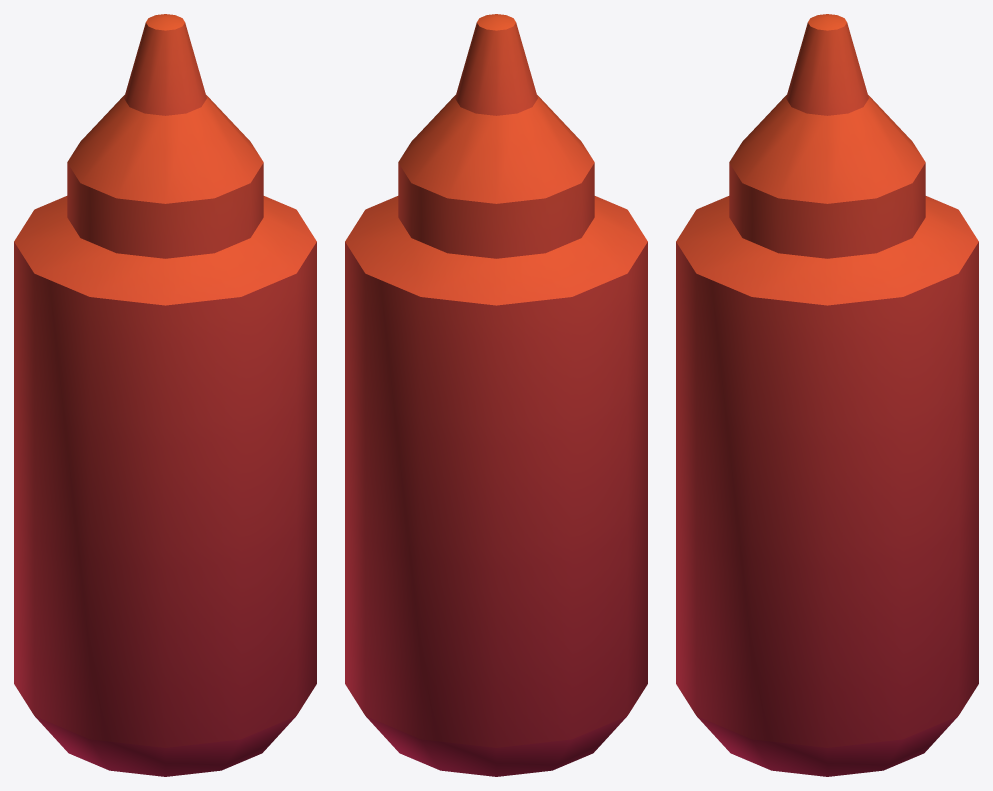
File: kay-ketchup.glb
3 renders of one model, left to right at view 1: azimuth 30°, elevation 25°; view 2: azimuth 150°, elevation 25°; view 3: azimuth 270°, elevation 25°, orthographic.
Visible parts, largest first — view 1: ketchup; view 2: ketchup; view 3: ketchup.
Boxes of the visible parts, left/top/right/bottom form: ketchup: left=14, top=14, right=316, bottom=776; ketchup: left=345, top=14, right=647, bottom=776; ketchup: left=676, top=14, right=978, bottom=776.
Bounding box in the file's own units: 0.0848 × 0.22 × 0.0848.
1 material, 1 textured.
